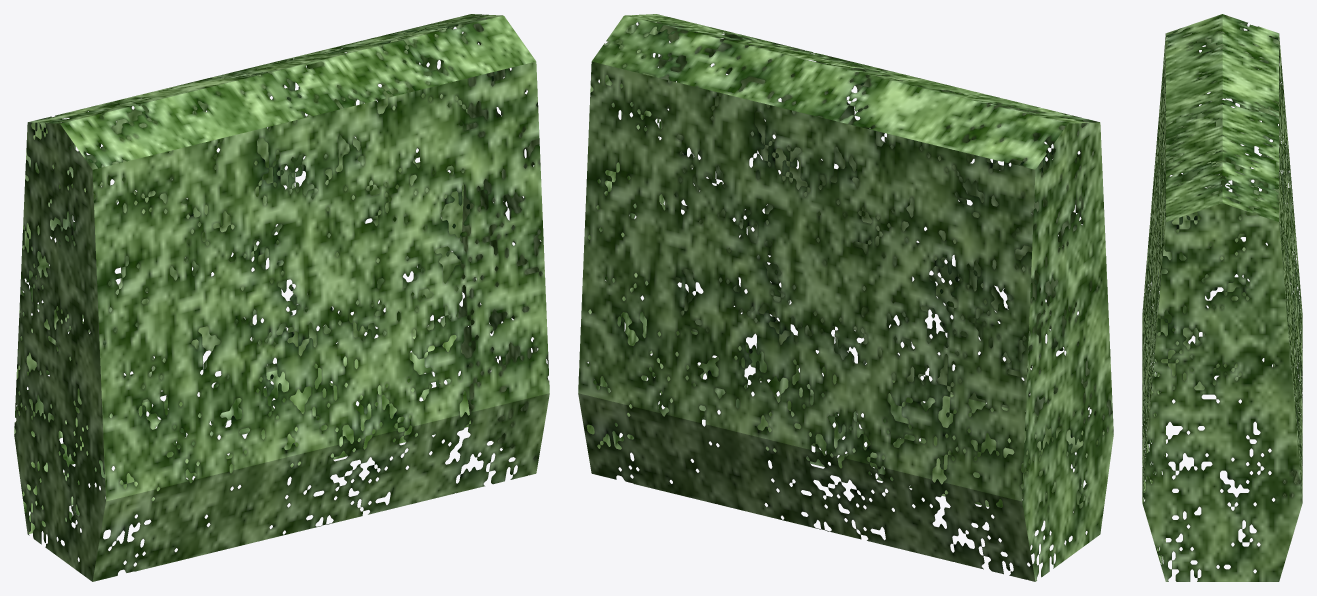
File: bush_tall_summer.fbx
The picture shows the model from 3 angles, left to right: view 1: azimuth 30°, elevation 25°; view 2: azimuth 150°, elevation 25°; view 3: azimuth 270°, elevation 25°; orthographic projection. The views are drawn at different scales.
Visible parts, largest first — view 1: bush_tall_summer; view 2: bush_tall_summer; view 3: bush_tall_summer.
Boxes of the visible parts, x1,y1,x2,y2 form: bush_tall_summer: (14,14,549,581); bush_tall_summer: (578,14,1113,581); bush_tall_summer: (1142,14,1302,581).
Bounding box in the file's own units: 201 × 188 × 71.91.
Materials: 1 (1 with a texture image).
